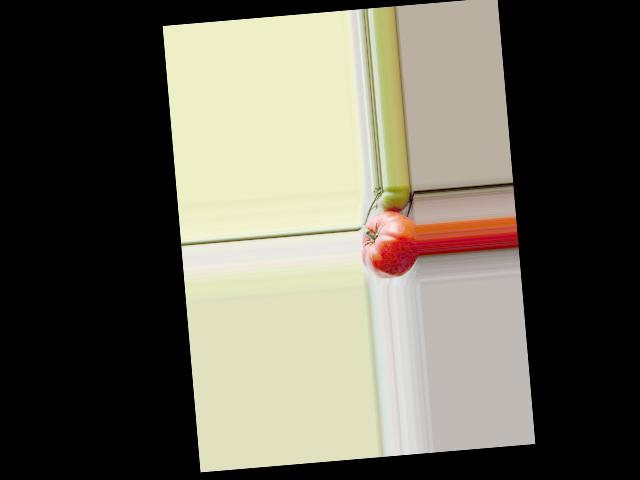tomato: (358, 209, 421, 280)
